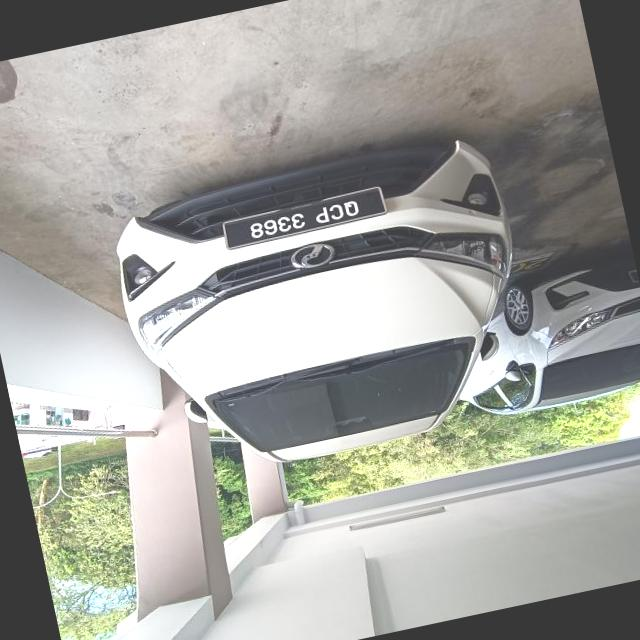PeroduaBezza: (102, 127, 550, 491)
